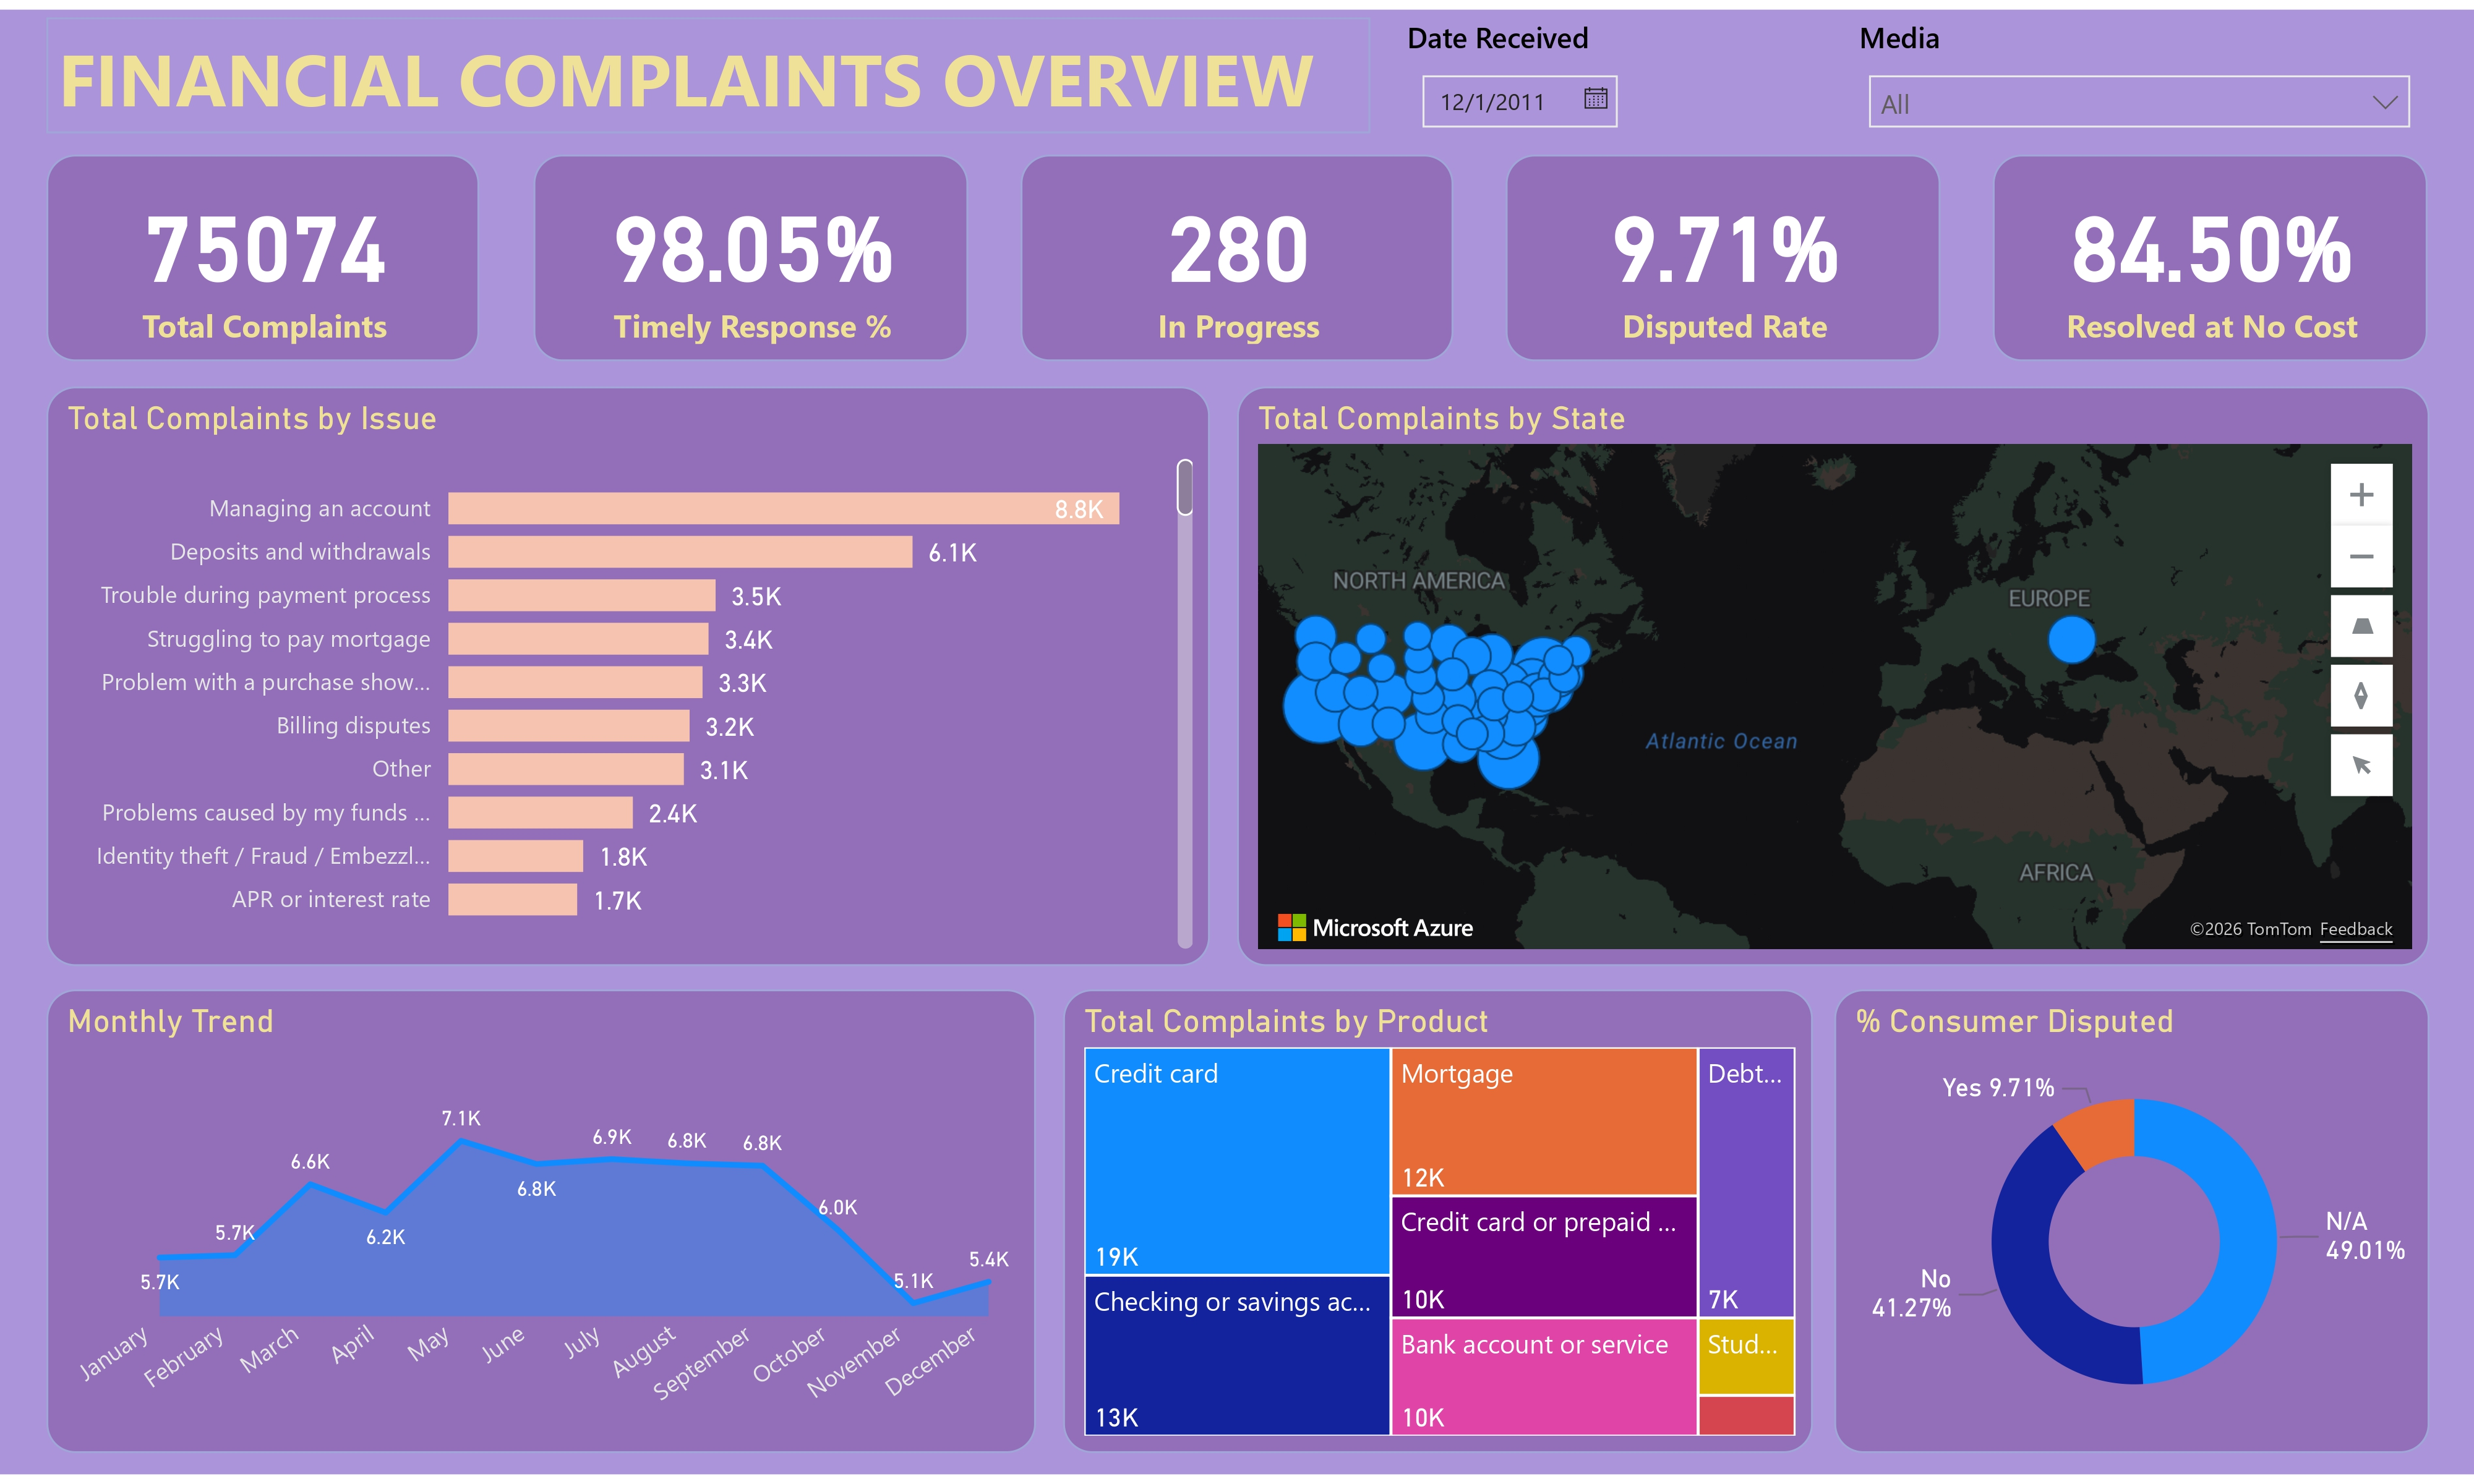

The page's visual inventory and layout, read from the dashboard file:
{"tool":"powerbi","page":{"name":"Page 1","canvas":[1280,758],"ordinal":0},"visuals":[{"type":"card","fields":{"Values":["Financial Consumer Complaints_Financial Consumer Complaints.Total Complaints"]},"box":[23.8,75.2,223.9,107],"z":0},{"type":"textbox","box":[23.8,3.6,684.8,59.5],"z":1000},{"type":"card","fields":{"Values":["Financial Consumer Complaints_Financial Consumer Complaints.Tomely Response %"]},"box":[275.5,75.2,225.1,107],"z":2000},{"type":"card","fields":{"Values":["Financial Consumer Complaints_Financial Consumer Complaints.In Progress Complaints"]},"box":[527.9,75.2,223.9,107],"z":3000},{"type":"card","fields":{"Values":["Financial Consumer Complaints_Financial Consumer Complaints.Consumer Disputed Rate"]},"box":[779.1,75.2,225,107],"z":4000},{"type":"card","fields":{"Values":["Financial Consumer Complaints_Financial Consumer Complaints.Resolved at No Cost"]},"box":[1031.3,75.2,225.1,107],"z":5000},{"type":"barChart","fields":{"Category":["Financial Consumer Complaints_Financial Consumer Complaints.Issue"],"Y":["Financial Consumer Complaints_Financial Consumer Complaints.Total Complaints"]},"box":[24.4,195.1,602.3,299.9],"z":6000},{"type":"azureMap","fields":{"Category":["Financial Consumer Complaints_Financial Consumer Complaints.State"],"Size":["Financial Consumer Complaints_Financial Consumer Complaints.Total Complaints"]},"box":[640.1,195.1,617,299.9],"z":7000},{"type":"areaChart","title":"Monthly Trend","fields":{"Category":["Financial Consumer Complaints_Financial Consumer Complaints.Date Received.Variation.Date Hierarchy.Month"],"Y":["Financial Consumer Complaints_Financial Consumer Complaints.Total Complaints"]},"box":[24.4,507.2,512.1,240.2],"z":8000},{"type":"treemap","fields":{"Group":["Financial Consumer Complaints_Financial Consumer Complaints.Product"],"Values":["Financial Consumer Complaints_Financial Consumer Complaints.Total Complaints"]},"box":[549.9,507.2,387.7,240.2],"z":9000},{"type":"donutChart","title":"% Consumer Disputed","fields":{"Category":["Financial Consumer Complaints_Financial Consumer Complaints.Consumer disputed?"],"Y":["Financial Consumer Complaints_Financial Consumer Complaints.Total Complaints"]},"box":[948.6,507.2,308.5,240.2],"z":10000},{"type":"slicer","title":"Date Received","fields":{"Values":["Financial Consumer Complaints_Financial Consumer Complaints.Date Received"]},"box":[723,3.7,225.6,59.7],"z":11000},{"type":"slicer","title":"Media","fields":{"Values":["Financial Consumer Complaints_Financial Consumer Complaints.Submitted via"]},"box":[957.1,3.7,299.9,59.7],"z":12000}]}

Visuals, with their boxes in screenshot pixels (x1, y1, x2, y2), scaled from the page's 1280x758 canvas onto the 2474x1484 screenshot:
card - Financial Consumer Complaints_Financial Consumer Complaints.Total Complaints: [left=46, top=147, right=479, bottom=357]
textbox: [left=46, top=7, right=1369, bottom=124]
card - Financial Consumer Complaints_Financial Consumer Complaints.Tomely Response %: [left=533, top=147, right=967, bottom=357]
card - Financial Consumer Complaints_Financial Consumer Complaints.In Progress Complaints: [left=1021, top=147, right=1453, bottom=357]
card - Financial Consumer Complaints_Financial Consumer Complaints.Consumer Disputed Rate: [left=1506, top=147, right=1941, bottom=357]
card - Financial Consumer Complaints_Financial Consumer Complaints.Resolved at No Cost: [left=1993, top=147, right=2428, bottom=357]
barChart - Financial Consumer Complaints_Financial Consumer Complaints.Issue x Financial Consumer Complaints_Financial Consumer Complaints.Total Complaints: [left=47, top=382, right=1211, bottom=969]
azureMap - Financial Consumer Complaints_Financial Consumer Complaints.State x Financial Consumer Complaints_Financial Consumer Complaints.Total Complaints: [left=1237, top=382, right=2429, bottom=969]
"Monthly Trend" areaChart: [left=47, top=993, right=1037, bottom=1463]
treemap - Financial Consumer Complaints_Financial Consumer Complaints.Product x Financial Consumer Complaints_Financial Consumer Complaints.Total Complaints: [left=1063, top=993, right=1812, bottom=1463]
"% Consumer Disputed" donutChart: [left=1833, top=993, right=2429, bottom=1463]
"Date Received" slicer: [left=1397, top=7, right=1833, bottom=124]
"Media" slicer: [left=1850, top=7, right=2429, bottom=124]
